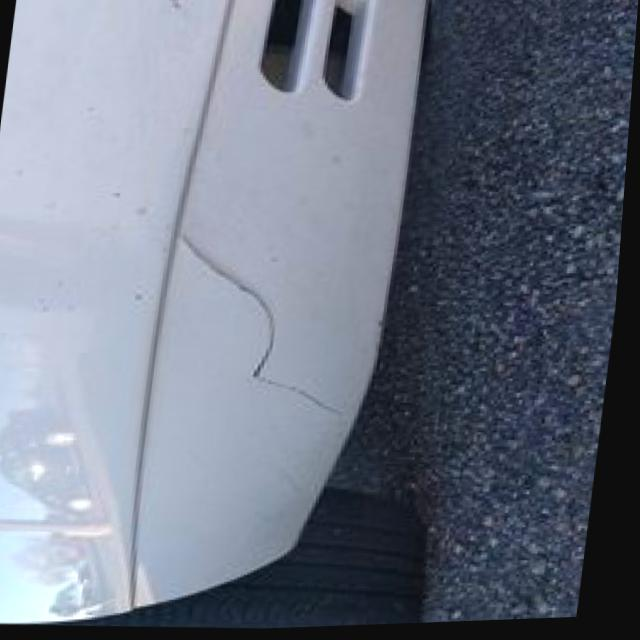Paint-Crack: (173, 227, 349, 422)
